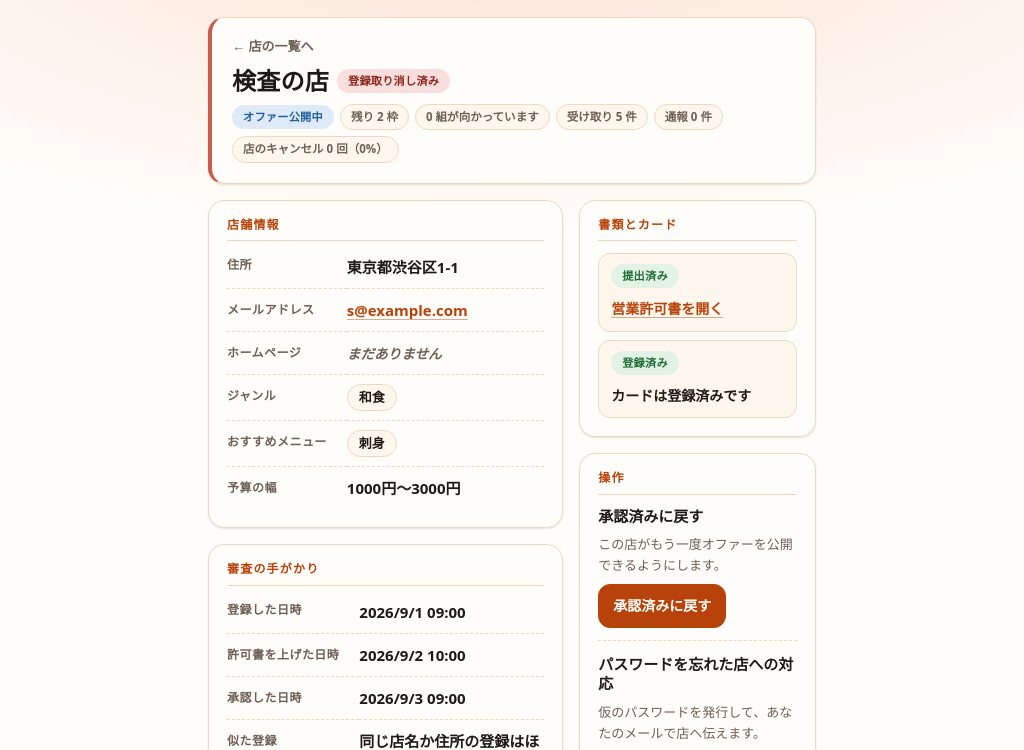
Scenario: 取り消し・戻すの理由と、止めたときの影響（運営-01・運営-03） › 戻すにも理由を求める
The image size is (1024, 750).
Click the button with test id "btn-restore" at (662, 606), box [598,584,726,628]
(page scrolled)
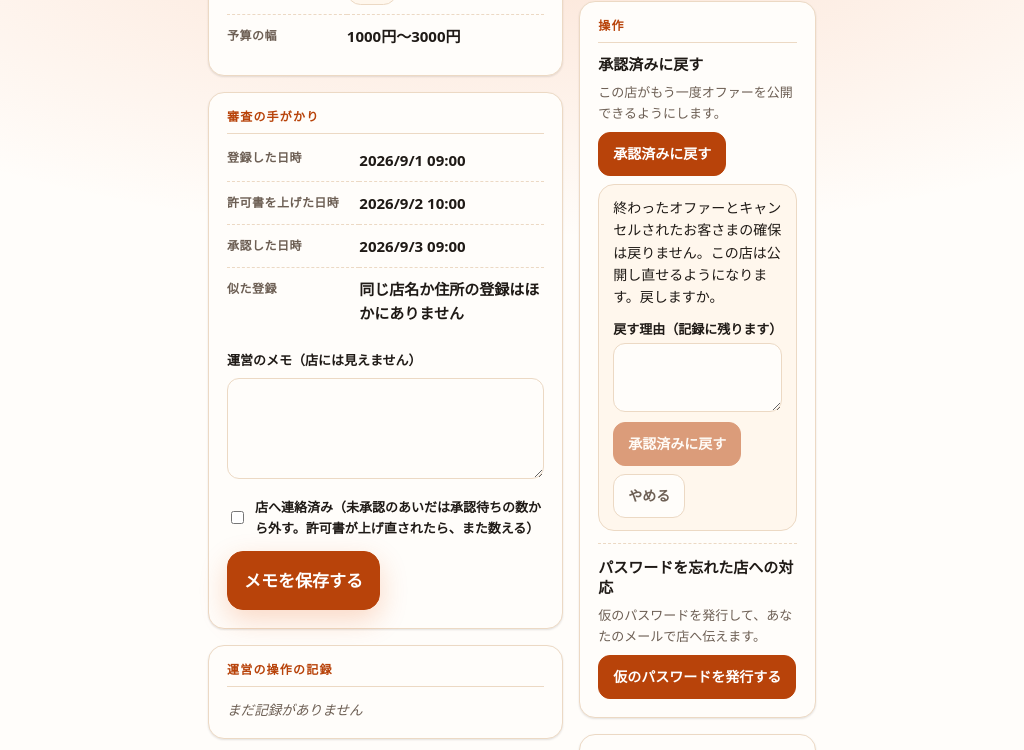
Type "店と電話で確かめた" into the text box with test id "field-reason" at (698, 378), box [613,344,782,412]
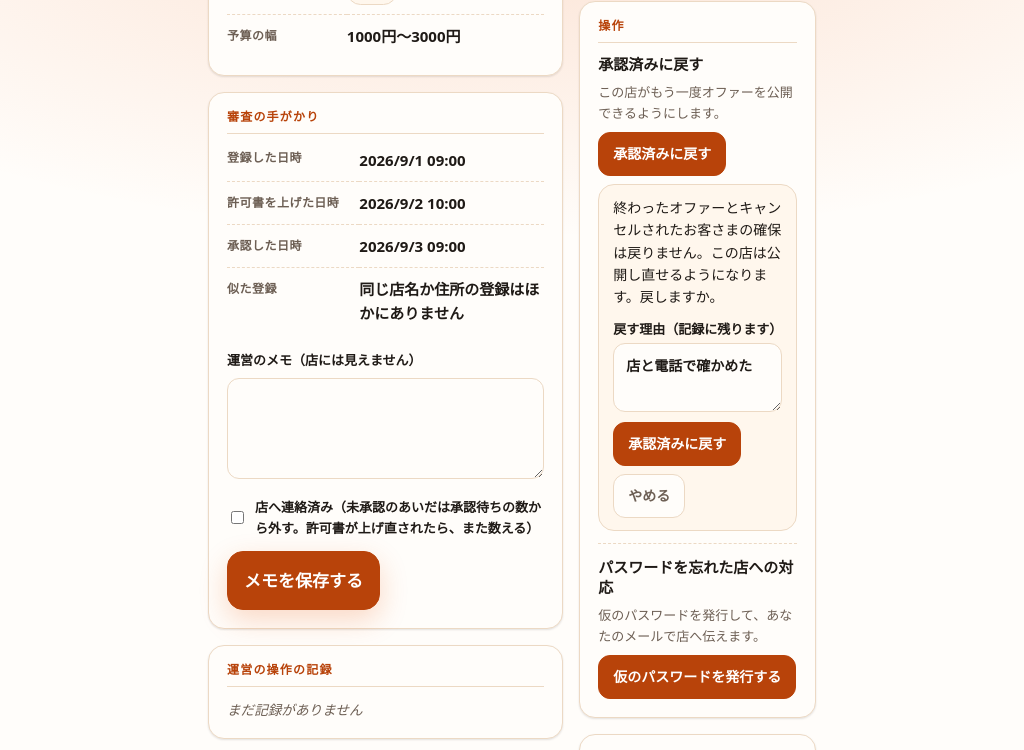
Click the button with test id "btn-confirm" at (677, 444), box [613,422,741,466]
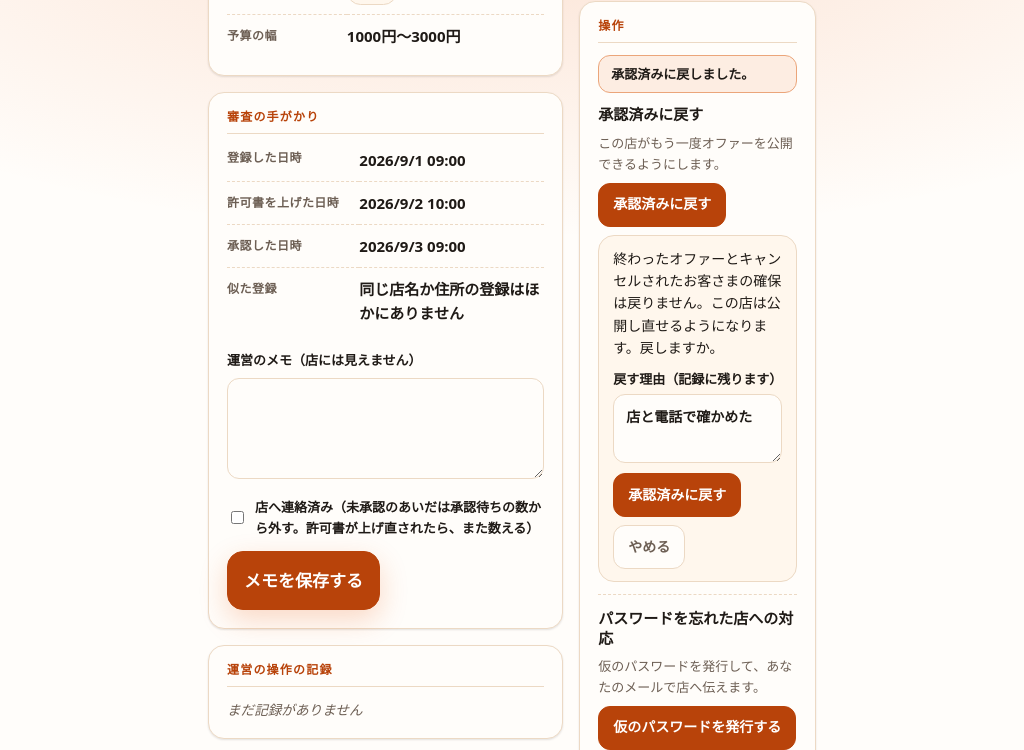
Now the message with test id "action-result" shows "承認済みに戻しました", box [611,65,754,83]
